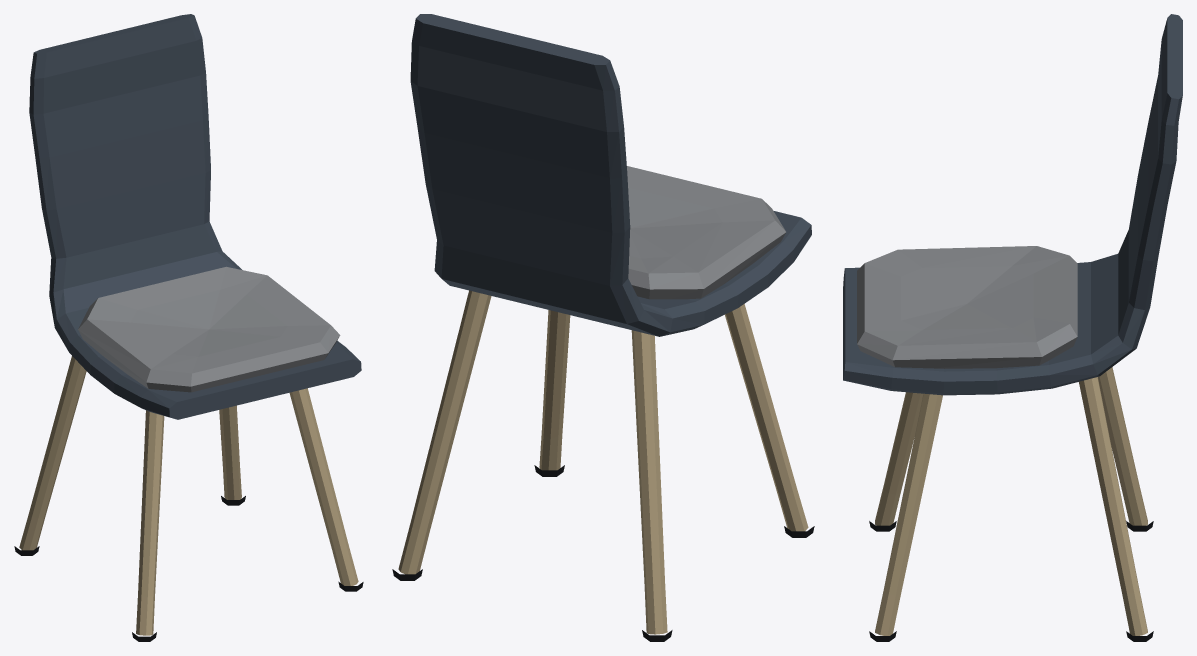
The model's file is meeting-chair-731ce0.glb.
The picture shows the model from 3 angles, left to right: view 1: azimuth 30°, elevation 25°; view 2: azimuth 150°, elevation 25°; view 3: azimuth 270°, elevation 25°; orthographic projection. The views are drawn at different scales.
Visible parts, largest first — view 1: chair-body, seat-pad; view 2: chair-body, seat-pad; view 3: chair-body, seat-pad.
Boxes of the visible parts, x1,y1,x2,y2 form: chair-body: [14, 14, 363, 641]; seat-pad: [78, 266, 340, 392]; chair-body: [392, 14, 814, 641]; seat-pad: [627, 166, 786, 299]; chair-body: [843, 14, 1182, 641]; seat-pad: [857, 246, 1077, 368].
Bounding box in the file's own units: 0.4 × 0.817 × 0.4773.
